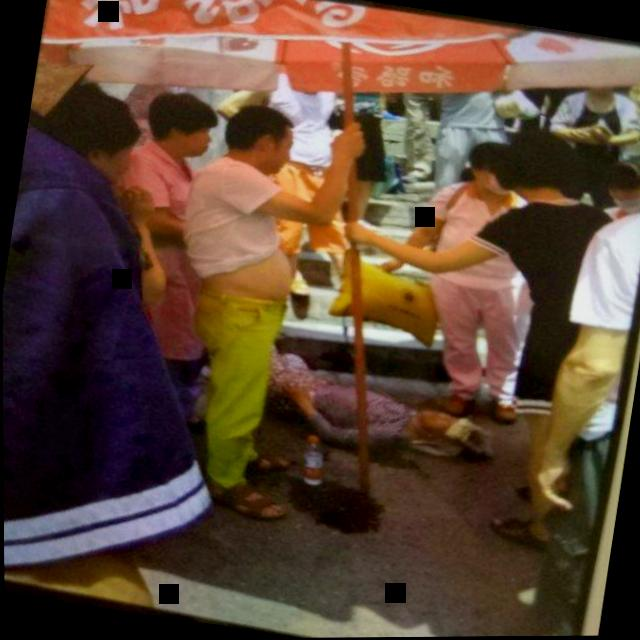Fall-Detected: (189, 310, 509, 481)
